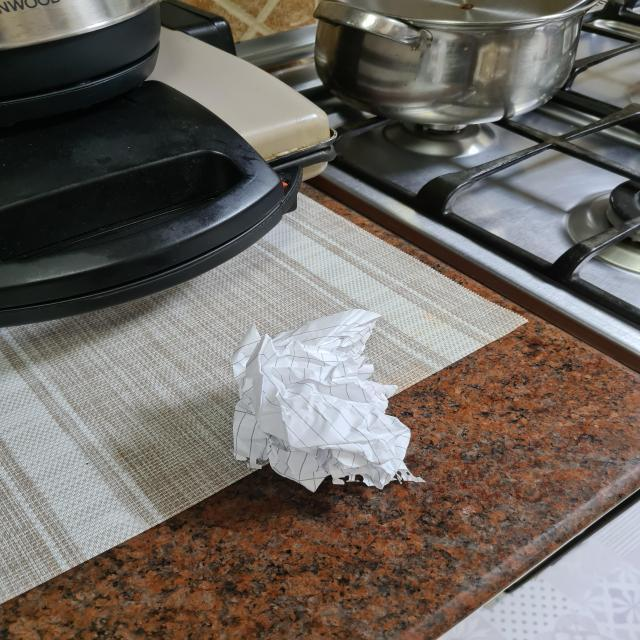trash: (236, 308, 416, 490)
